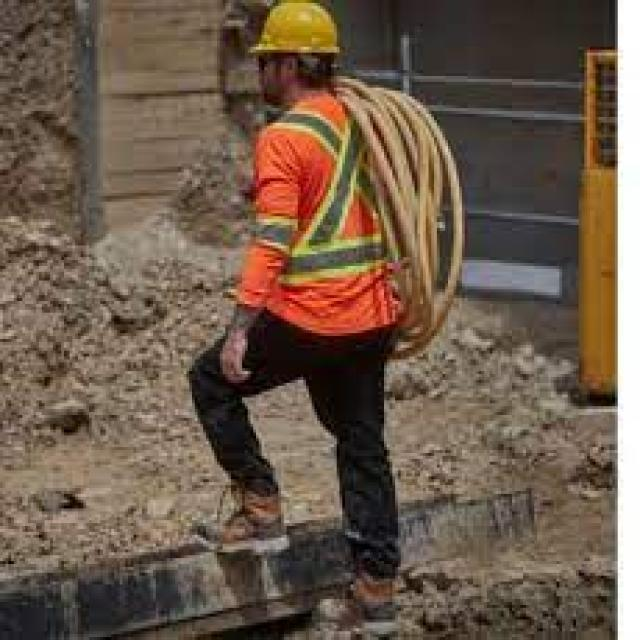shoes: (312, 575, 402, 635), (192, 500, 292, 551)
